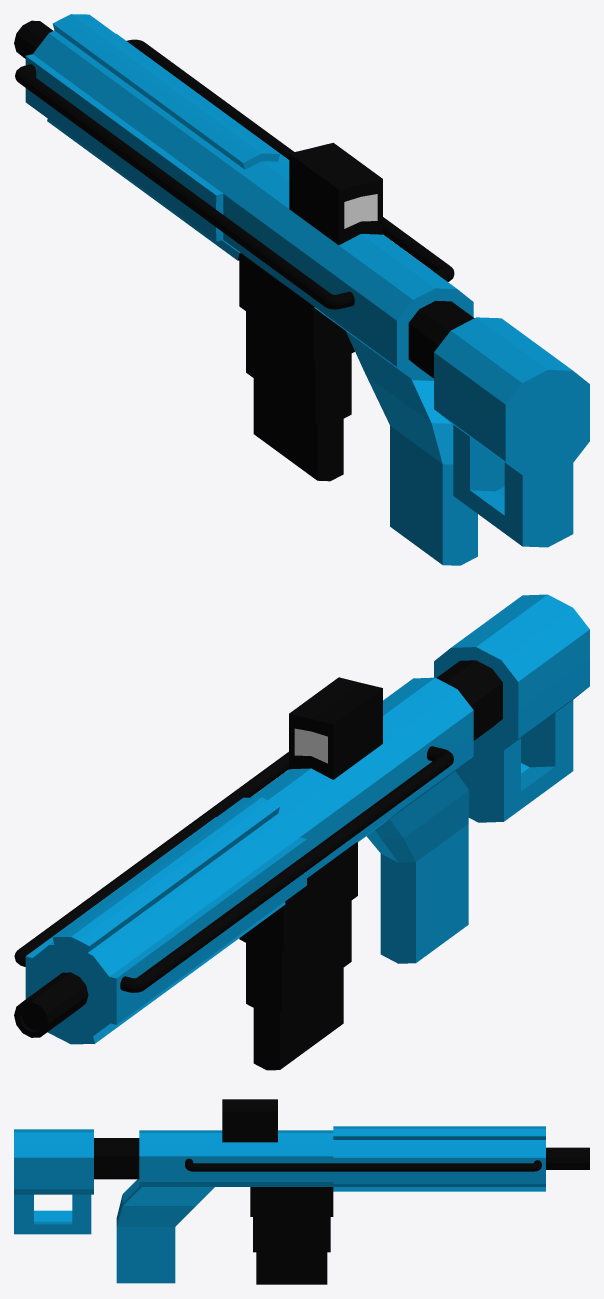
Rendered from tüfek 1.fbx.
3 views of the same model, one above another, from view 1: azimuth 30°, elevation 25°; view 2: azimuth 150°, elevation 25°; view 3: azimuth 270°, elevation 25° (orthographic). The views are drawn at different scales.
Parts seen in each view (by area): view 1: Cylinder; view 2: Cylinder; view 3: Cylinder.
Part boxes in pixels (left/top/right/bottom): Cylinder: left=14, top=14, right=589, bottom=565; Cylinder: left=14, top=594, right=589, bottom=1070; Cylinder: left=14, top=1099, right=589, bottom=1284.
Bounding box in the file's own units: 58.13 × 136 × 398.
